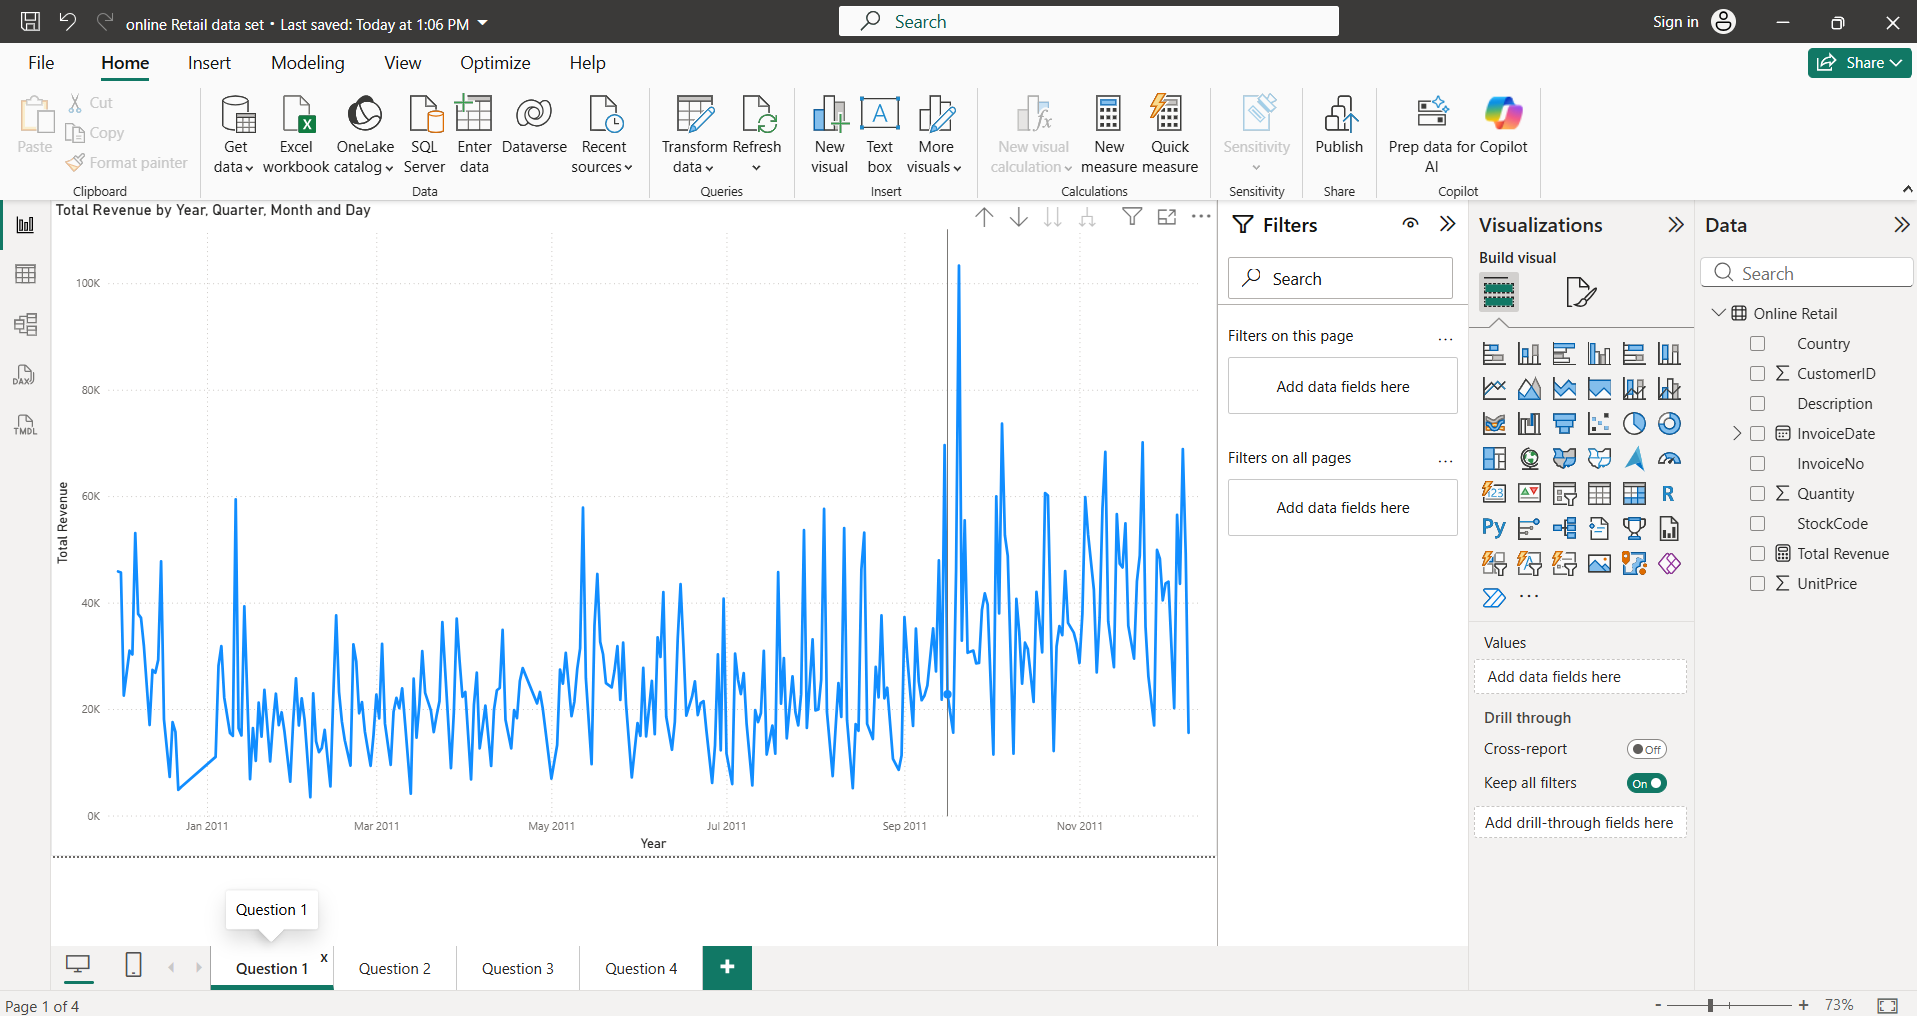

Layout of this report page (visuals, bound fields, positions):
{"tool":"powerbi","page":{"name":"Question 1 ","canvas":[1280,720],"ordinal":0},"visuals":[{"type":"lineChart","fields":{"Y":["Online Retail.Total Revenue"],"Category":["Online Retail.InvoiceDate.Variation.Date Hierarchy.Year","Online Retail.InvoiceDate.Variation.Date Hierarchy.Quarter","Online Retail.InvoiceDate.Variation.Date Hierarchy.Month","Online Retail.InvoiceDate.Variation.Date Hierarchy.Day"]},"box":[0,0,1280,719.8],"z":1}]}

Visuals, with their boxes on the page's 1280x720 design canvas (x1, y1, x2, y2). These are canvas units, not pixel positions in the 1917x1016 screenshot, which may show the page scaled, cropped or inside an application window:
lineChart - Online Retail.Total Revenue x Online Retail.InvoiceDate.Variation.Date Hierarchy.Year: (left=0, top=0, right=1280, bottom=720)
